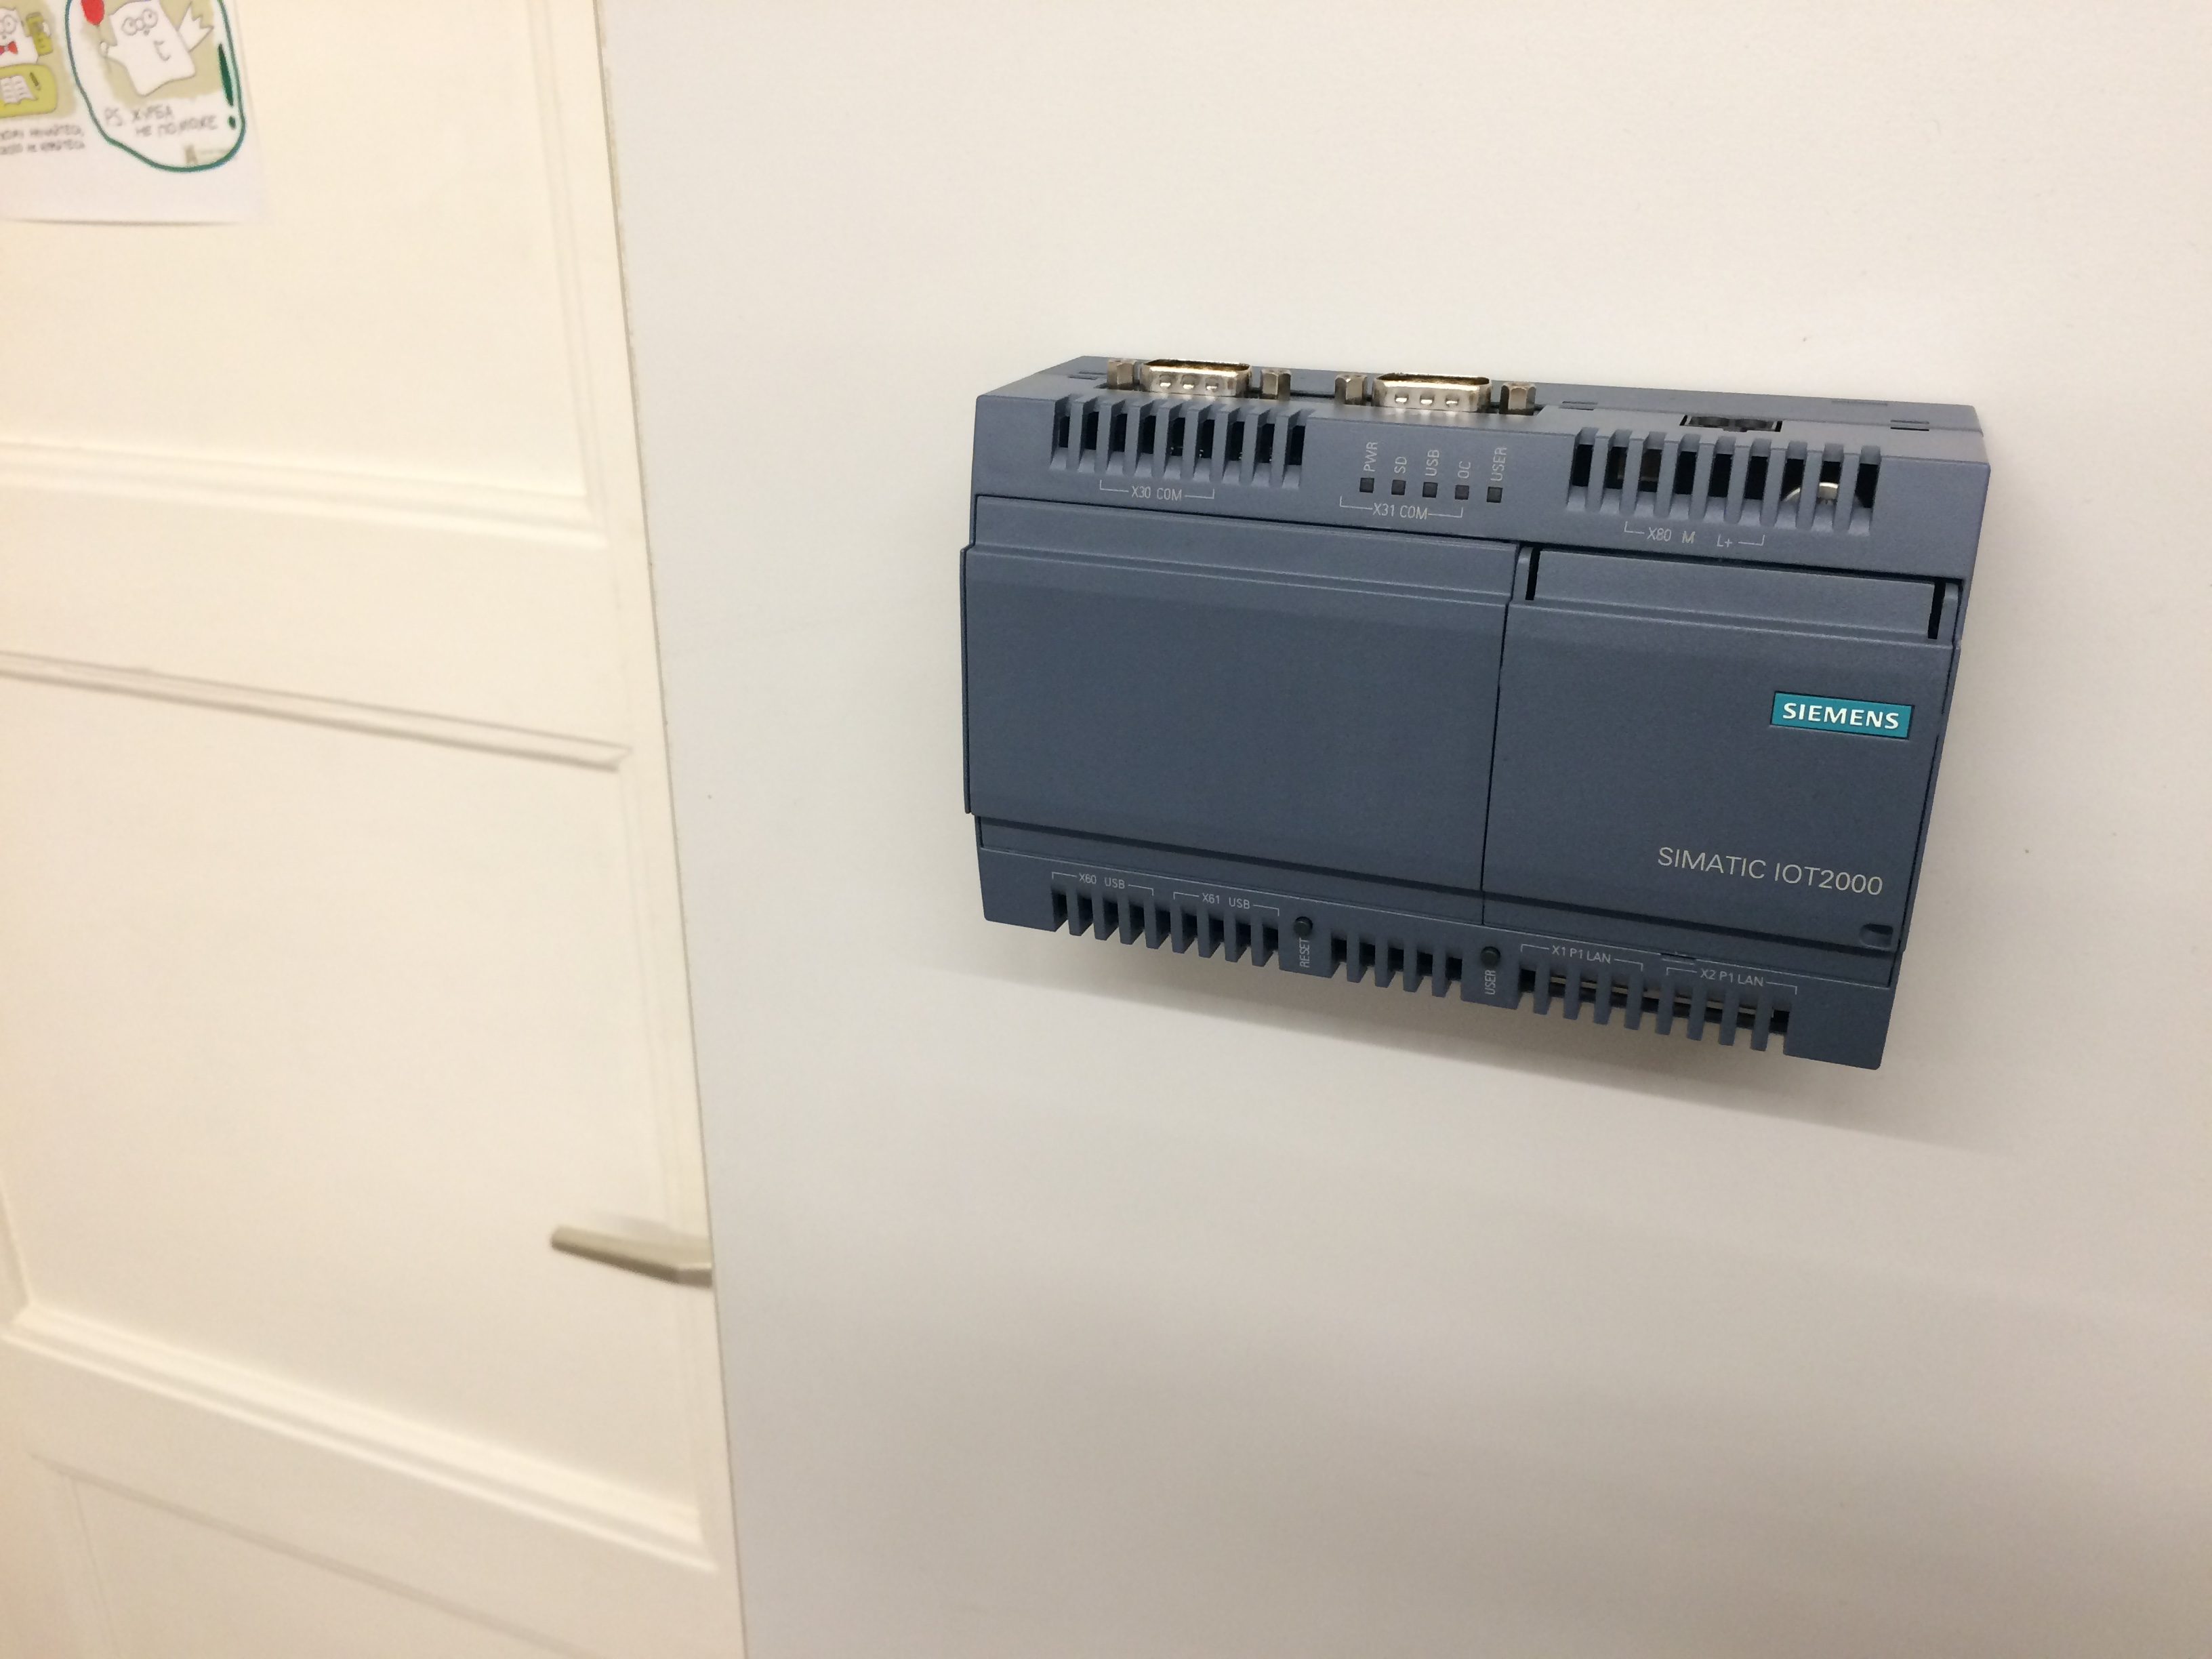iot2000: (954, 350, 1994, 1077)
